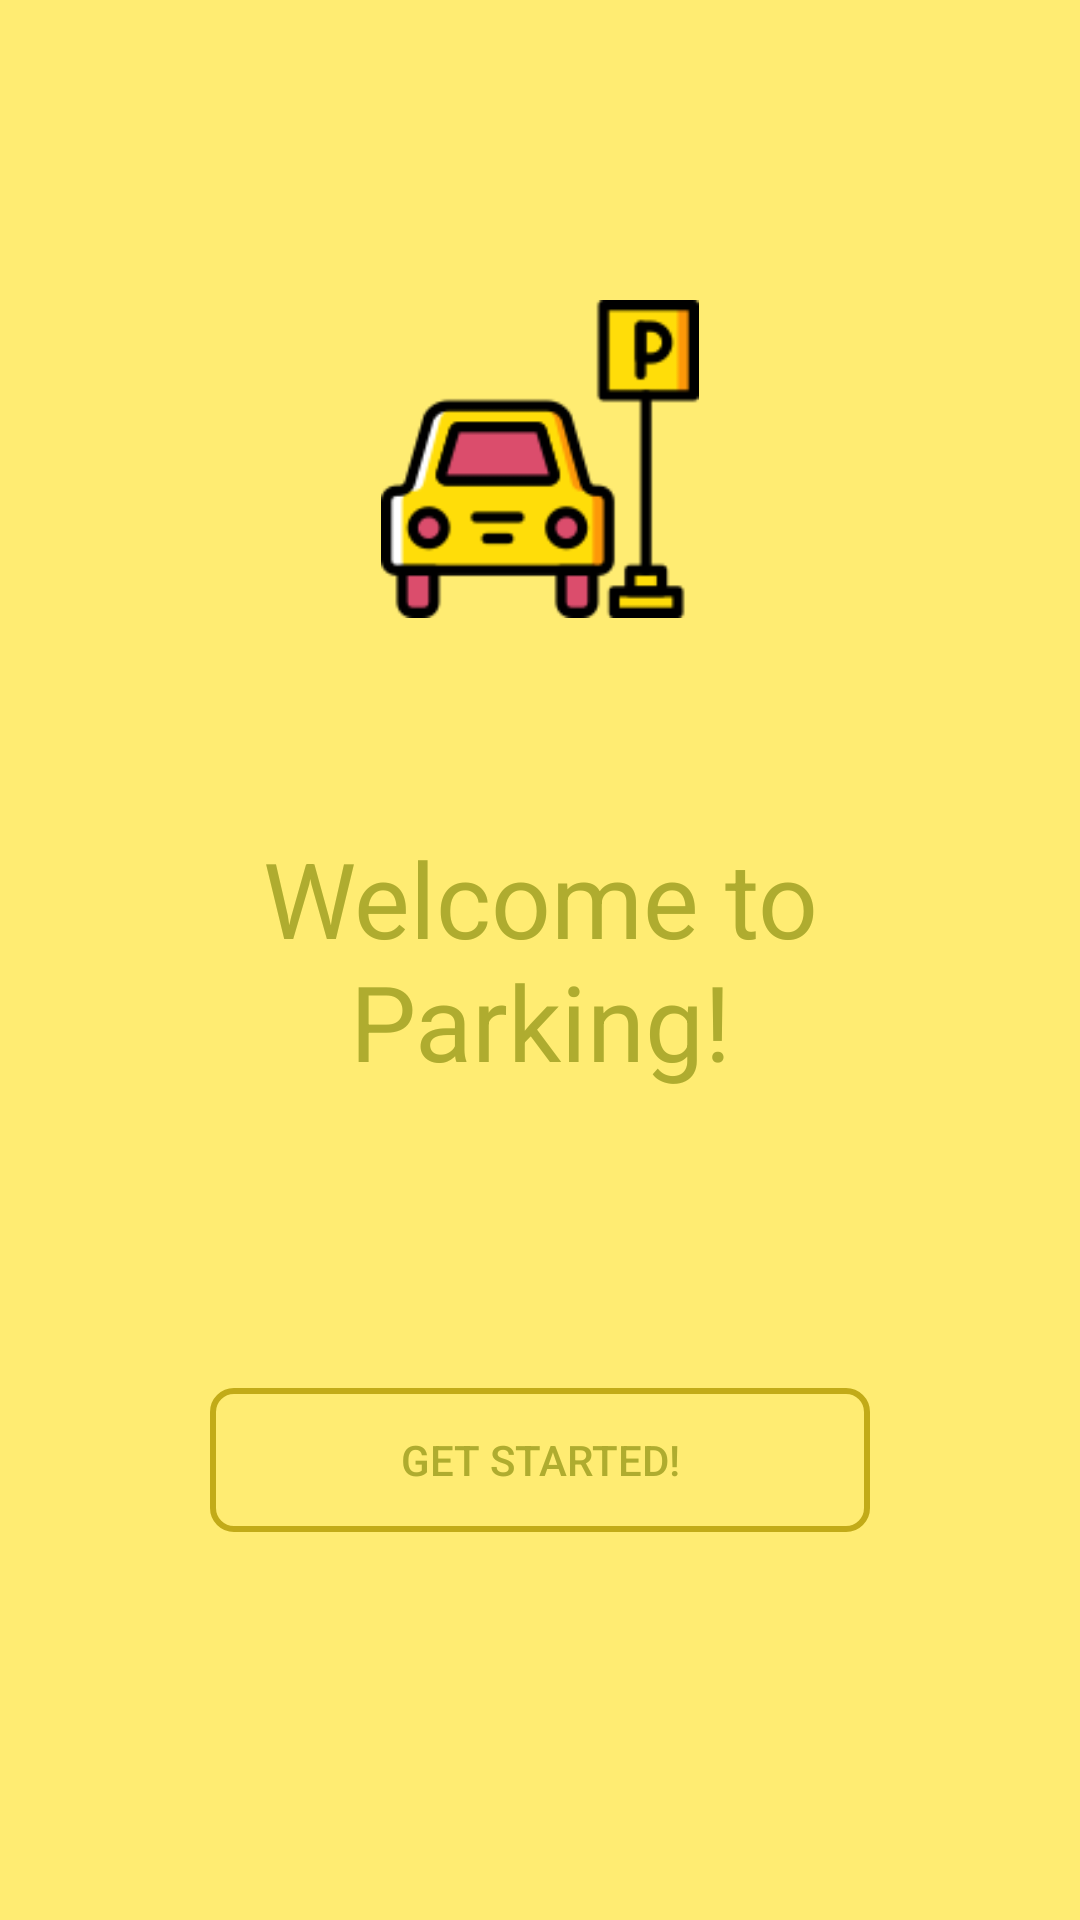

Icon bounding boxes for this 1080×1920 phone screenshot, format (x1, y1, x2, y2):
parking: (381, 300, 699, 618)
